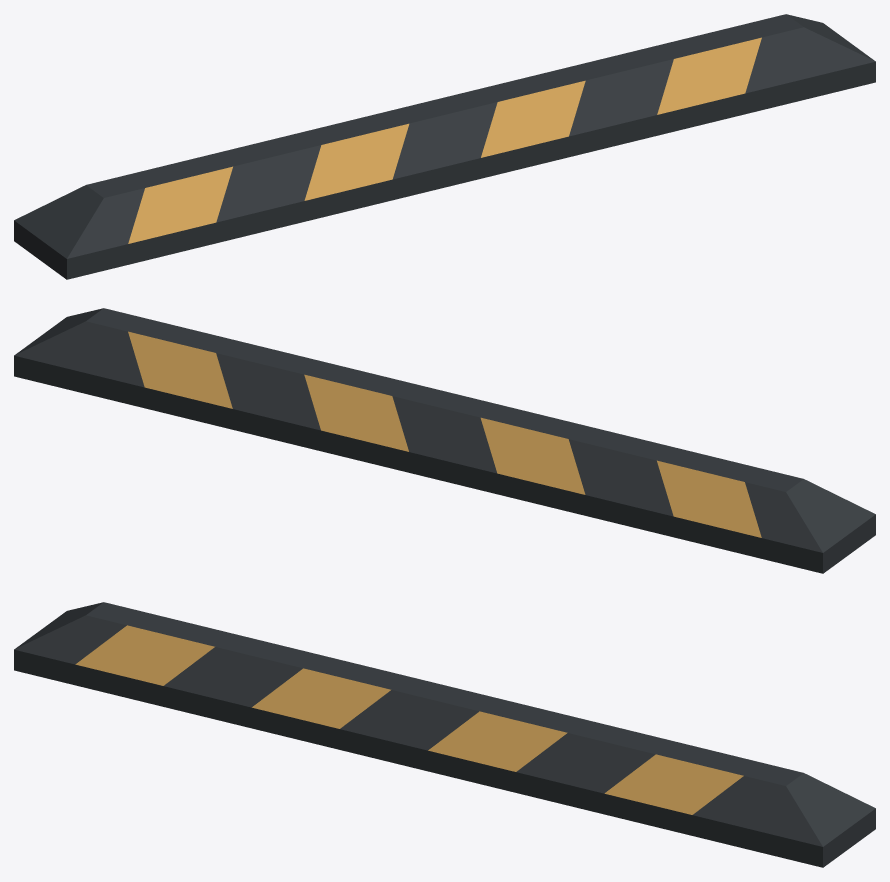
File: SM_Prop_Wheel_Stop_01.obj
3 views of the same model, one above another, from view 1: azimuth 30°, elevation 25°; view 2: azimuth 150°, elevation 25°; view 3: azimuth 330°, elevation 25° (orthographic).
Visible parts, largest first — view 1: SM_Prop_Wheel_Stop_01_0; view 2: SM_Prop_Wheel_Stop_01_0; view 3: SM_Prop_Wheel_Stop_01_0.
Boxes of the visible parts, x1,y1,x2,y2 form: SM_Prop_Wheel_Stop_01_0: (14, 14, 875, 279); SM_Prop_Wheel_Stop_01_0: (14, 308, 875, 573); SM_Prop_Wheel_Stop_01_0: (14, 602, 875, 867).
Bounding box in the file's own units: 2.41 × 0.1582 × 0.2722.
1 material, 1 textured.
